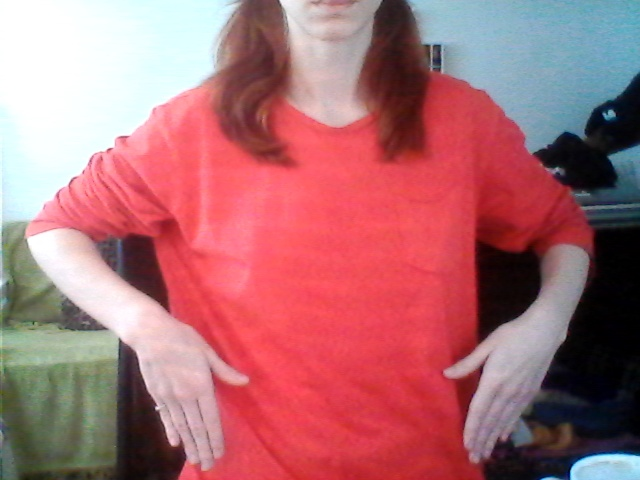zena: (126, 279, 535, 470)
